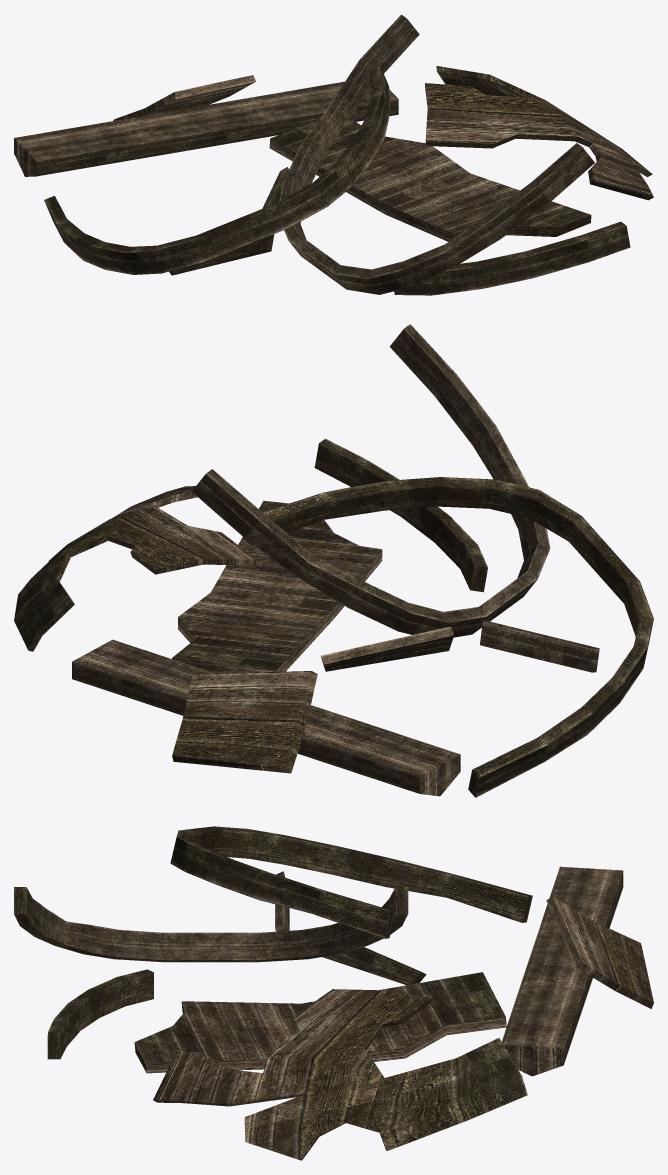
The model's file is ships_broken_piece00.fbx.
3 views of the same model, one above another, from view 1: azimuth 30°, elevation 25°; view 2: azimuth 150°, elevation 25°; view 3: azimuth 270°, elevation 25° (orthographic). The views are drawn at different scales.
Parts seen in each view (by area): view 1: ships_broken_piece00; view 2: ships_broken_piece00; view 3: ships_broken_piece00.
Boxes of the visible parts, box(x1,y1,x2,y2) form: ships_broken_piece00: box(14, 14, 653, 295); ships_broken_piece00: box(14, 324, 653, 797); ships_broken_piece00: box(14, 826, 653, 1160).
Bounding box in the file's own units: 15.74 × 5.02 × 15.24.
